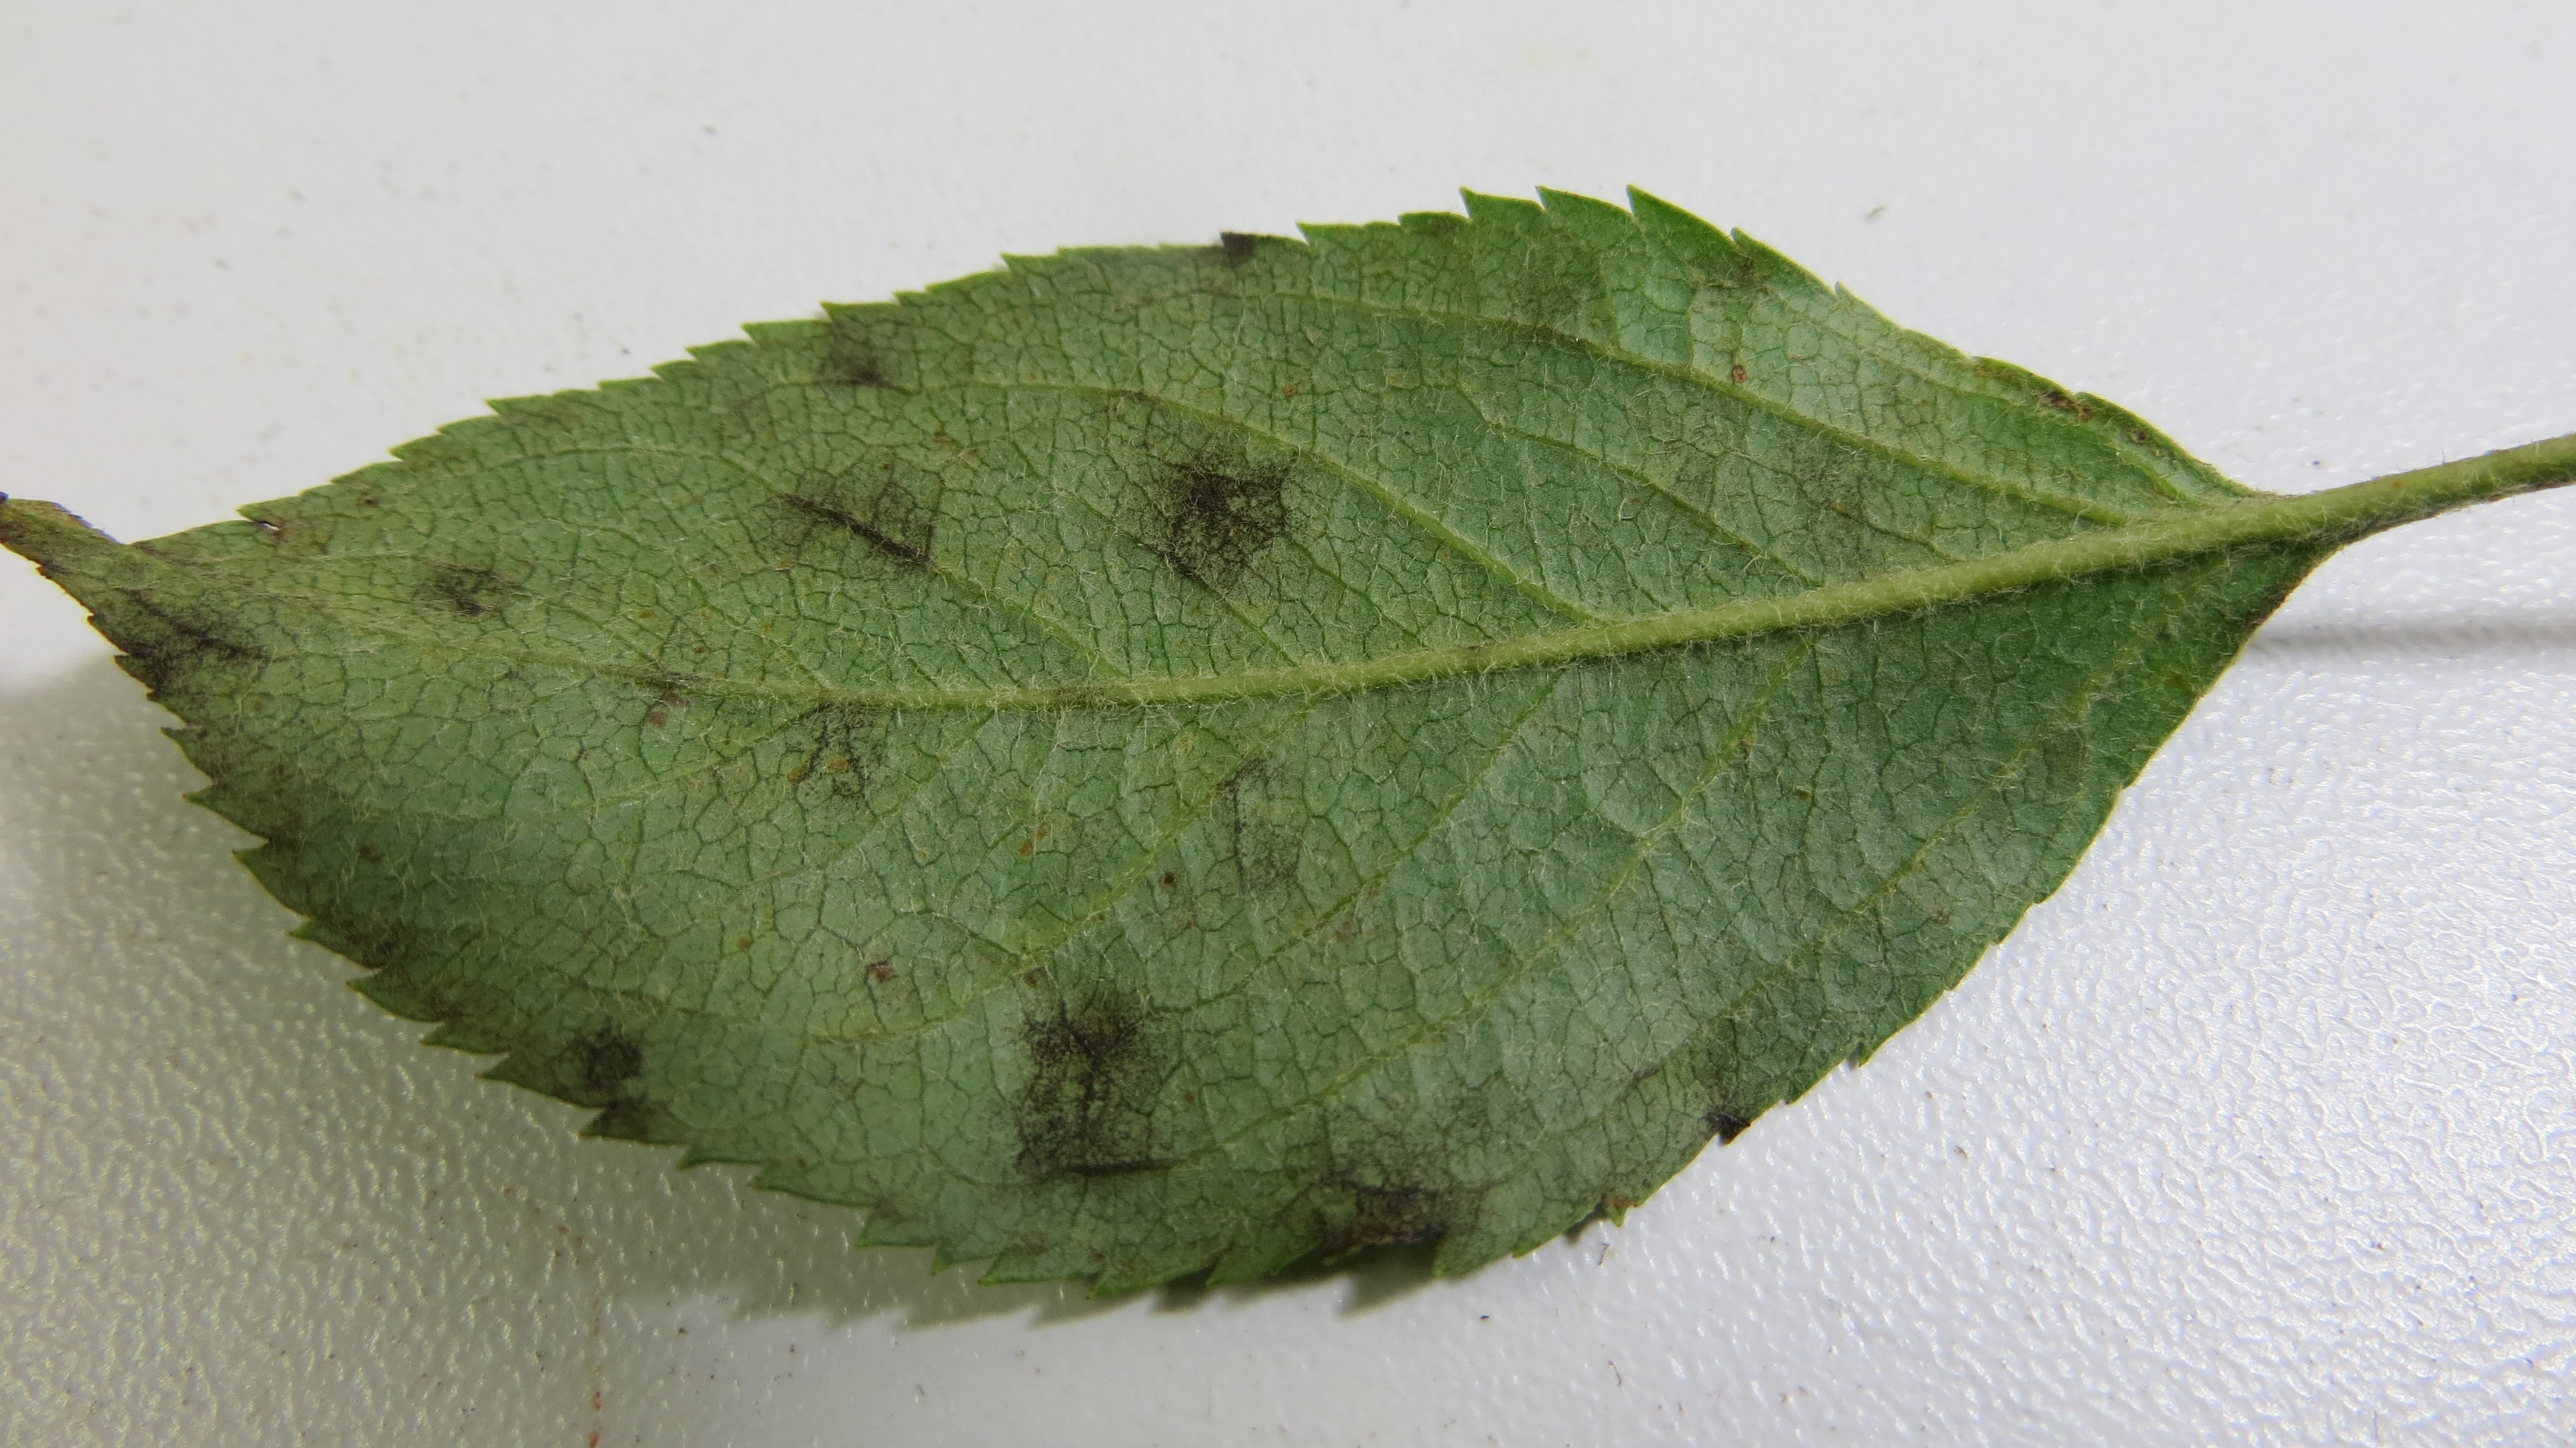sarna: (989, 965, 1198, 1186), (1115, 404, 1323, 605), (1277, 1092, 1476, 1294), (754, 441, 955, 597), (1210, 722, 1327, 922), (534, 1000, 683, 1138), (106, 584, 272, 696), (770, 667, 893, 802), (798, 308, 931, 421), (405, 547, 531, 630), (1194, 216, 1283, 290)
